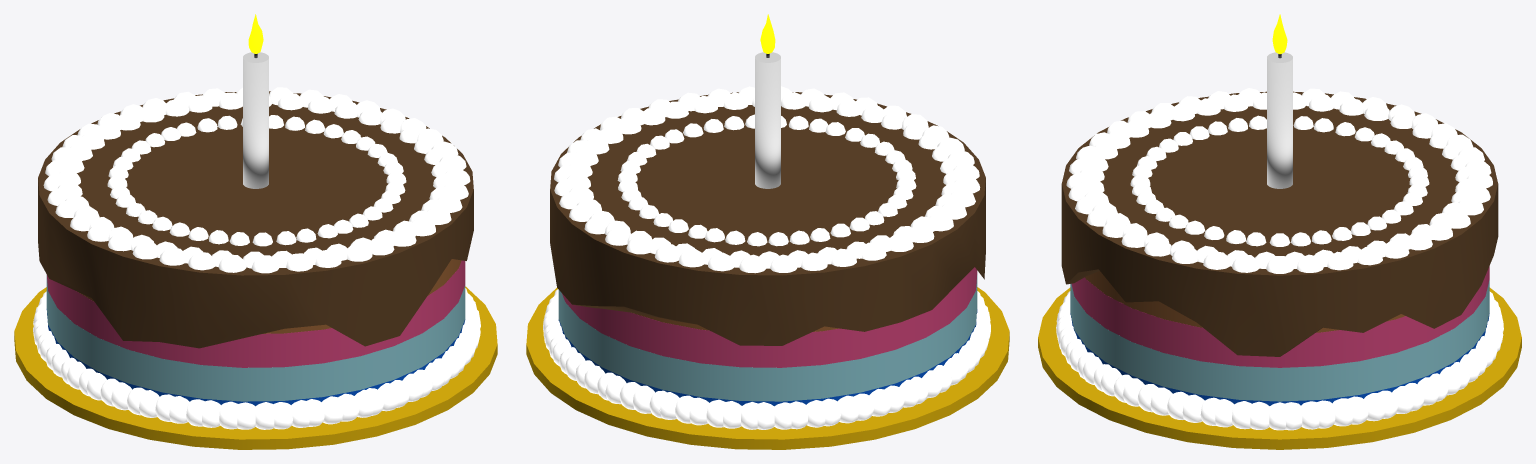
The model's file is cake.glb.
3 views of the same model, side by side, from view 1: azimuth 30°, elevation 25°; view 2: azimuth 150°, elevation 25°; view 3: azimuth 270°, elevation 25° (orthographic).
Visible parts, largest first — view 1: BR_D-material, White-material, B-material, Gold-material, R-material, W-material, Material_001-material, Brown-material; view 2: BR_D-material, White-material, B-material, Gold-material, R-material, W-material, Material_001-material; view 3: BR_D-material, White-material, B-material, Gold-material, R-material, W-material, Brown-material, Material_001-material.
Boxes of the visible parts, x1,y1,x2,y2 form: BR_D-material: (38,91,473,348); White-material: (33,87,480,429); B-material: (46,275,465,401); Gold-material: (14,286,497,449); R-material: (46,260,465,367); W-material: (243,52,268,188); Material_001-material: (46,309,465,406); Brown-material: (77,259,461,333); BR_D-material: (550,92,985,345); White-material: (543,86,990,429); B-material: (558,275,977,401); Gold-material: (526,287,1009,449); R-material: (562,267,977,367); W-material: (755,52,780,188); Material_001-material: (558,309,977,406); BR_D-material: (1061,91,1498,356); White-material: (1056,88,1503,430); B-material: (1070,280,1489,401); Gold-material: (1038,287,1521,449); R-material: (1071,266,1489,367); W-material: (1267,52,1292,188); Brown-material: (1085,271,1404,332); Material_001-material: (1070,313,1489,405).
Bounding box in the file's own units: 0.4296 × 0.3269 × 0.4296.
